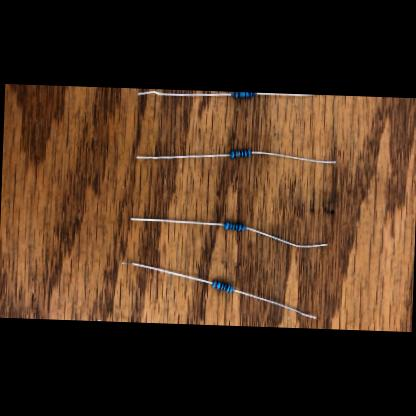resistor: (211, 280, 232, 293), (223, 222, 244, 232), (230, 150, 250, 158), (233, 92, 255, 98)
wire: (230, 288, 314, 318), (119, 262, 211, 284), (244, 226, 328, 249), (136, 150, 228, 162), (250, 152, 336, 164), (138, 90, 232, 98), (130, 218, 223, 226), (256, 92, 316, 96)
